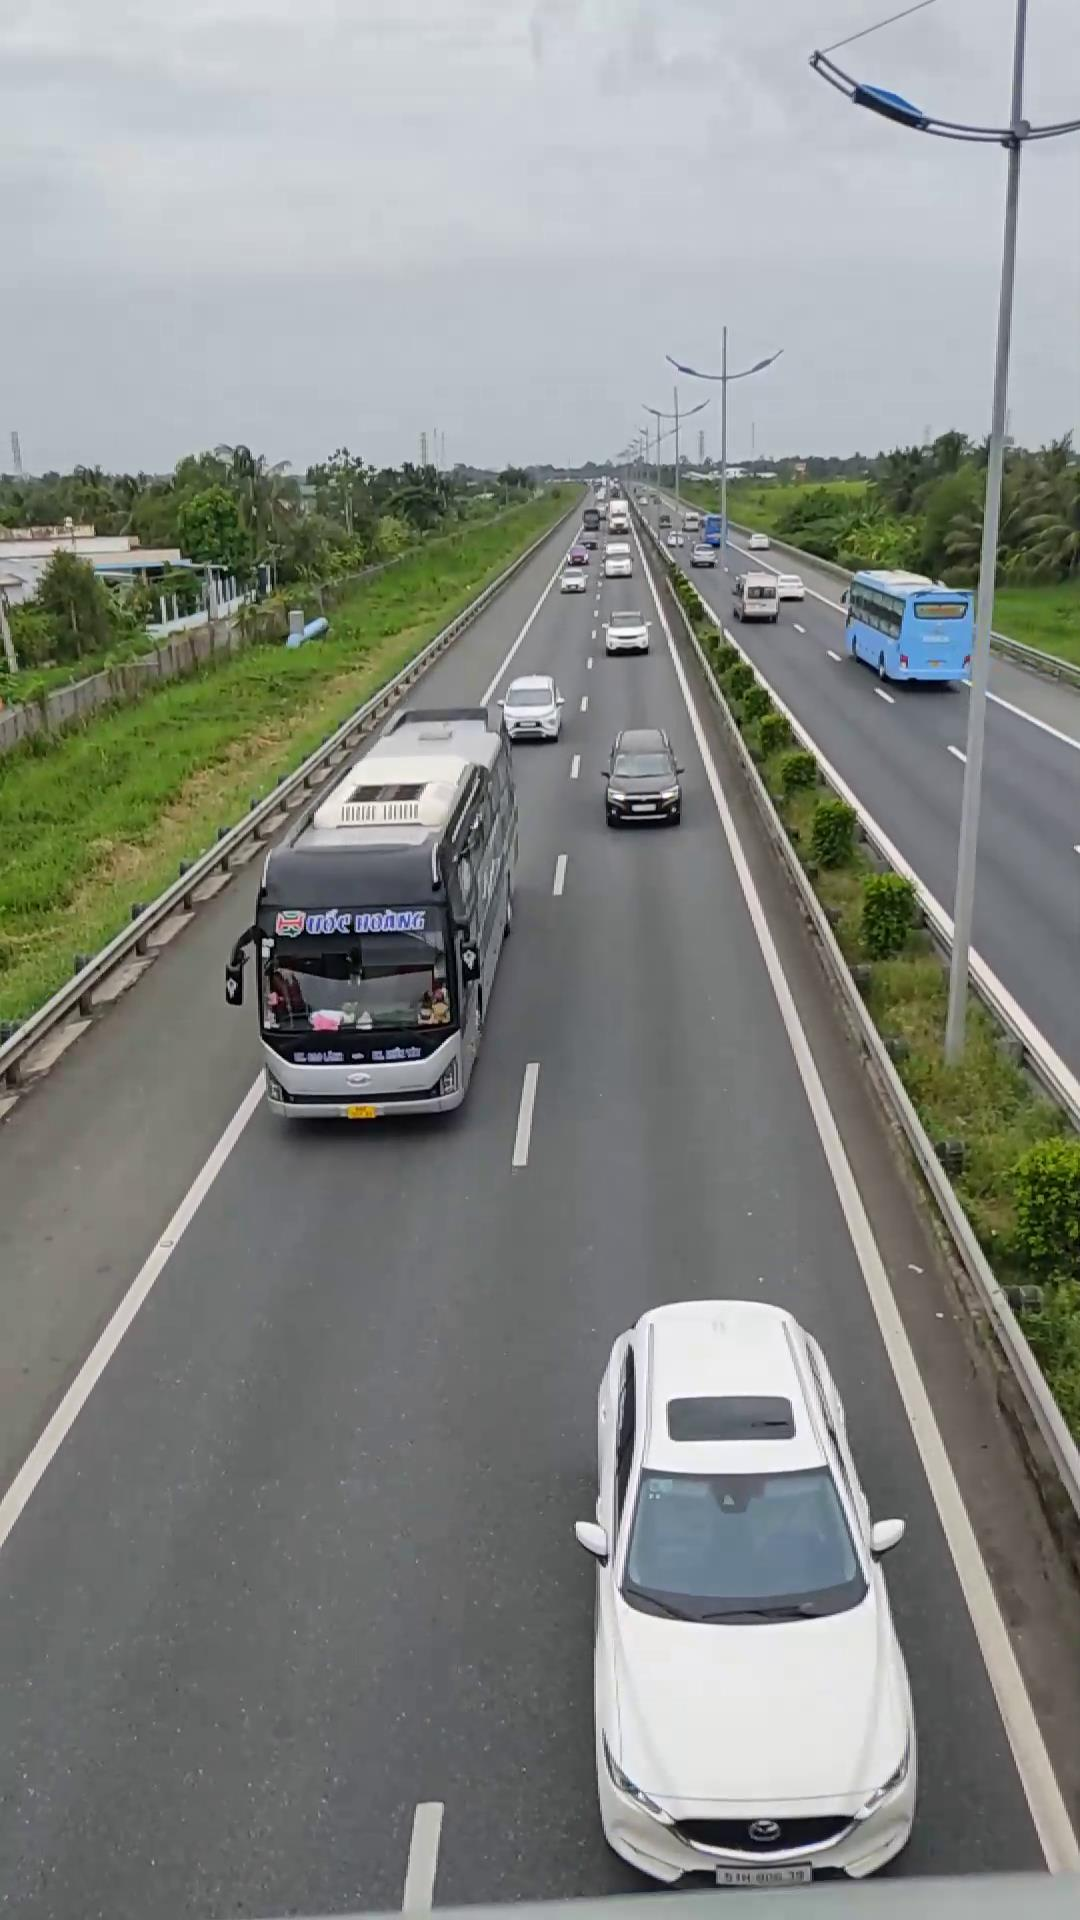bus: (233, 709, 522, 1125)
car: (576, 1294, 921, 1878), (600, 725, 685, 826), (489, 672, 565, 740)
